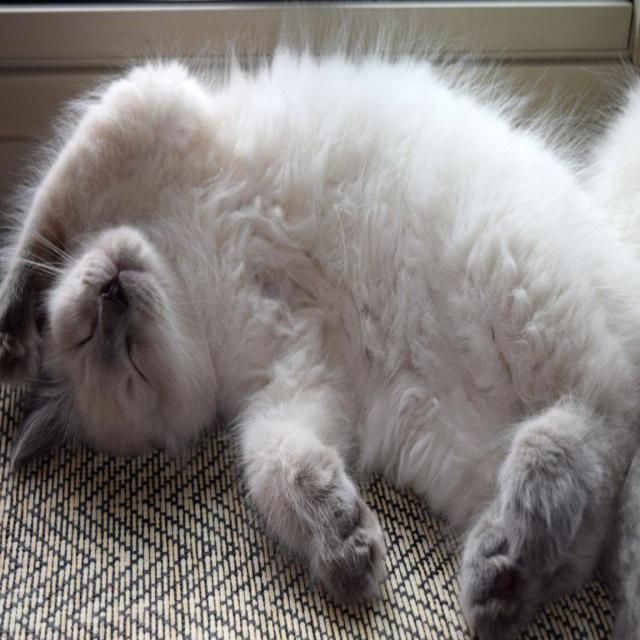Neva Masquerade: (0, 42, 640, 640)
